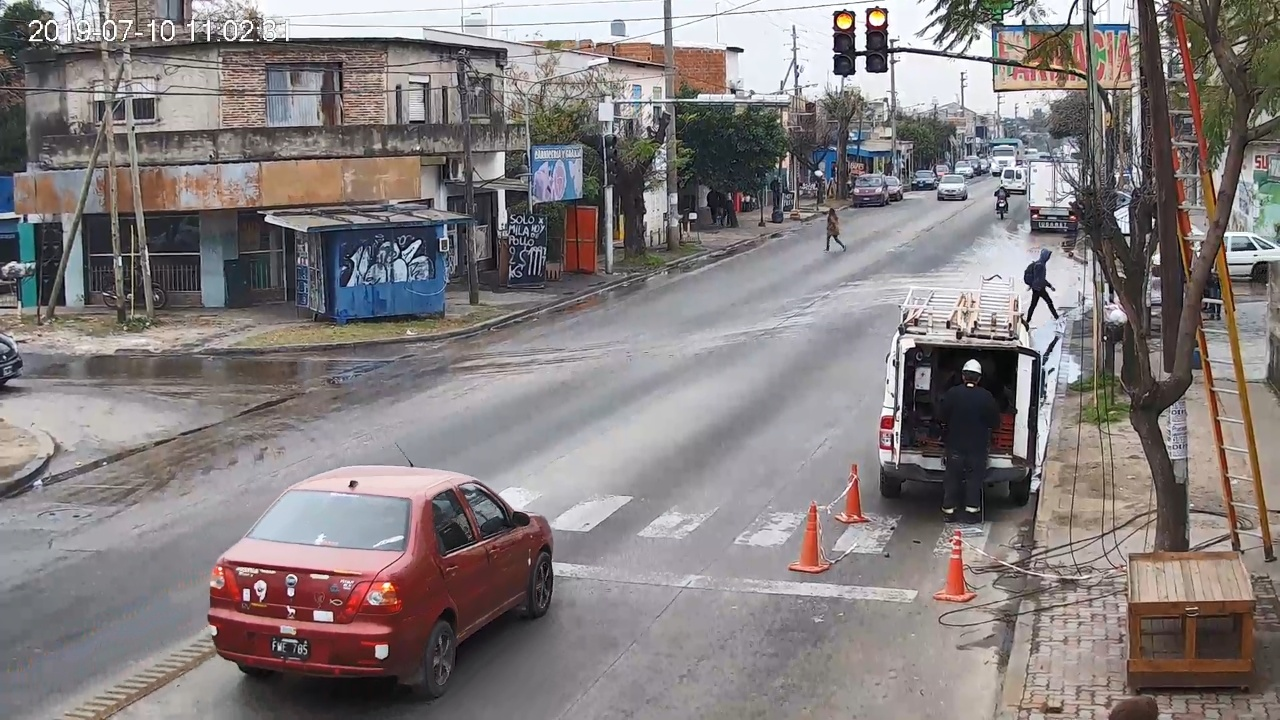car: (208, 465, 554, 698)
traffic light: (867, 9, 888, 72), (835, 11, 854, 75)
